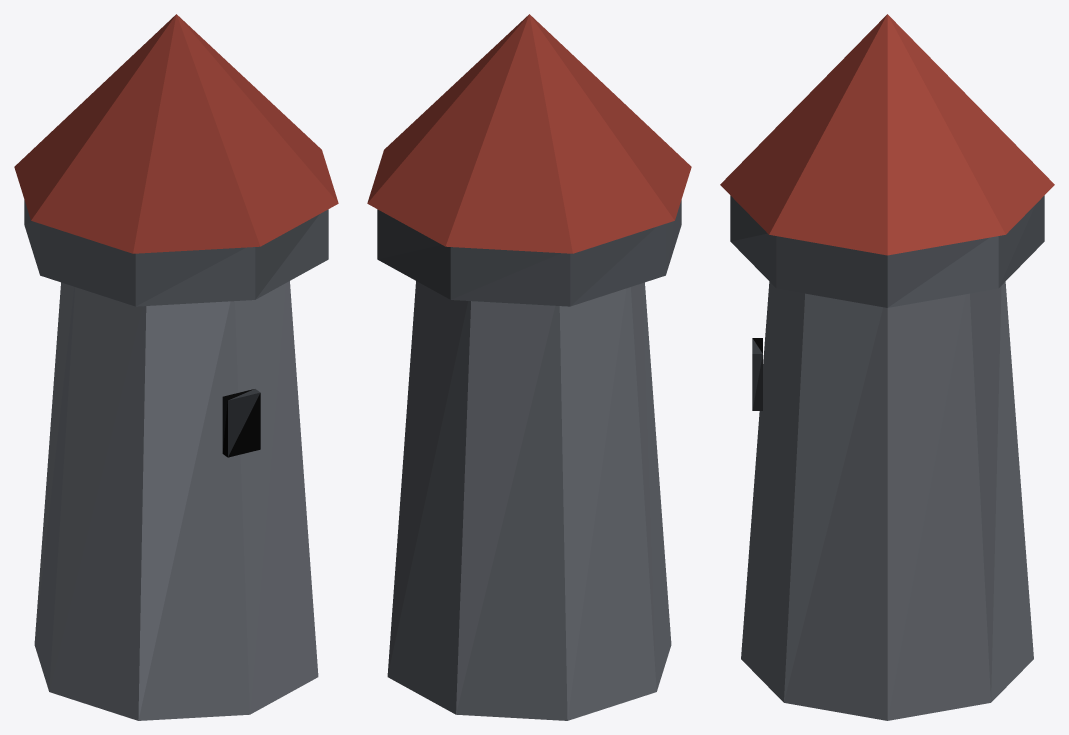
File: tower.glb
3 renders of one model, left to right at view 1: azimuth 30°, elevation 25°; view 2: azimuth 150°, elevation 25°; view 3: azimuth 270°, elevation 25°, orthographic.
Bounding box in the file's own units: 1.6 × 3.4 × 1.6.
